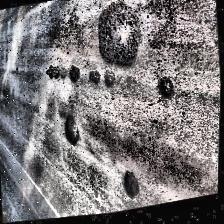pothole: (91, 0, 149, 78), (119, 168, 147, 206), (59, 112, 83, 150), (43, 61, 67, 86), (156, 80, 174, 102), (66, 64, 84, 86), (103, 71, 119, 91), (86, 72, 102, 88)
